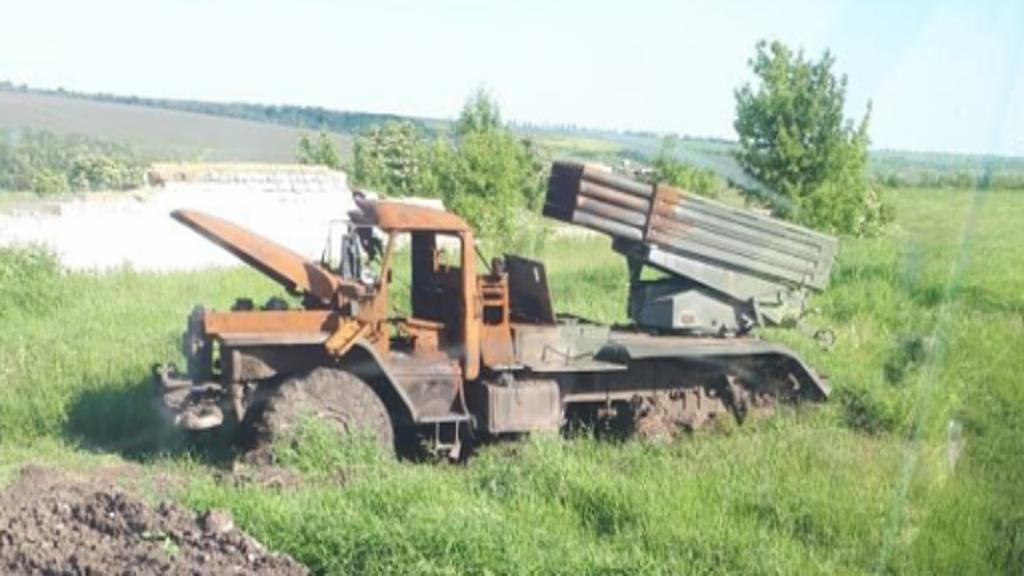MLRS: (156, 142, 846, 486)
